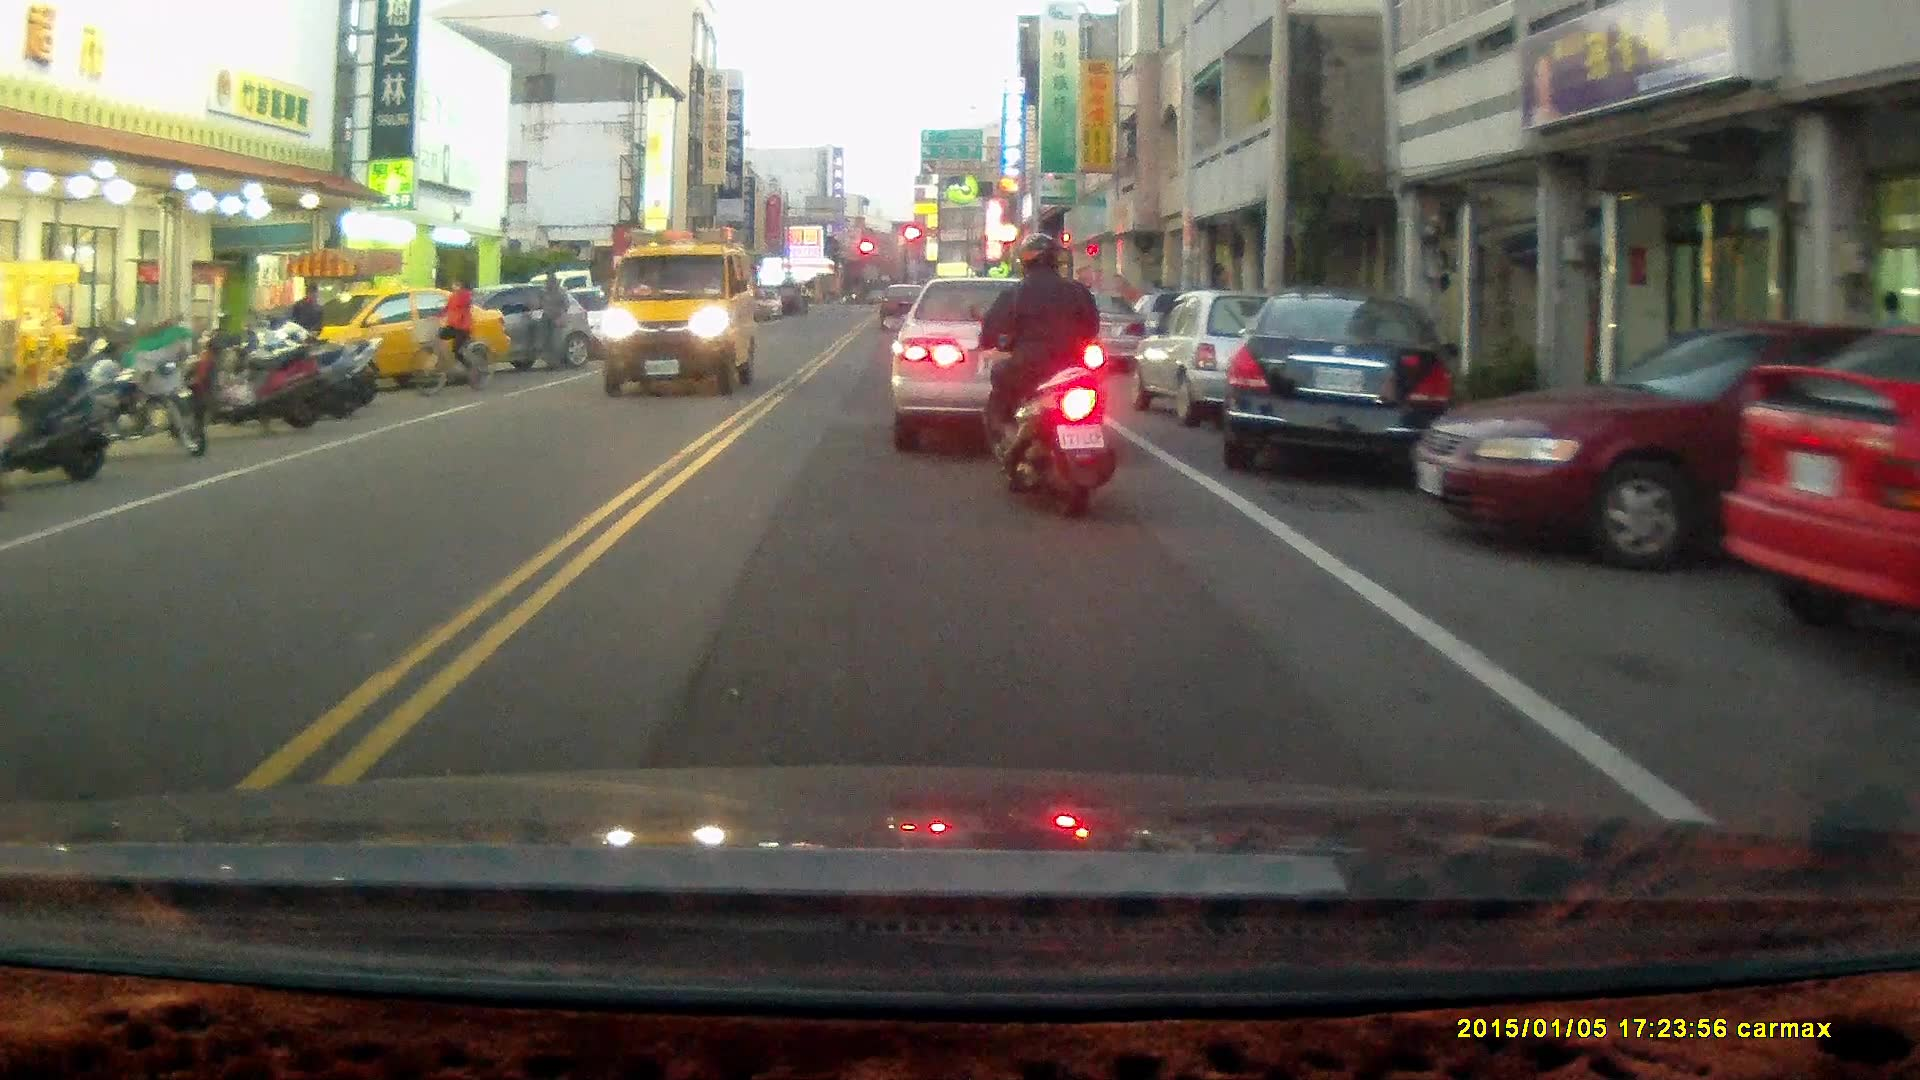pedestrian: (533, 271, 570, 373), (286, 283, 325, 374)
rider: (964, 229, 1120, 525), (405, 276, 498, 403)
vehicle: (1426, 317, 1903, 578), (1727, 324, 1920, 663), (1221, 290, 1464, 480), (895, 269, 1114, 442), (1127, 289, 1330, 433), (600, 235, 756, 398), (314, 288, 513, 389)
